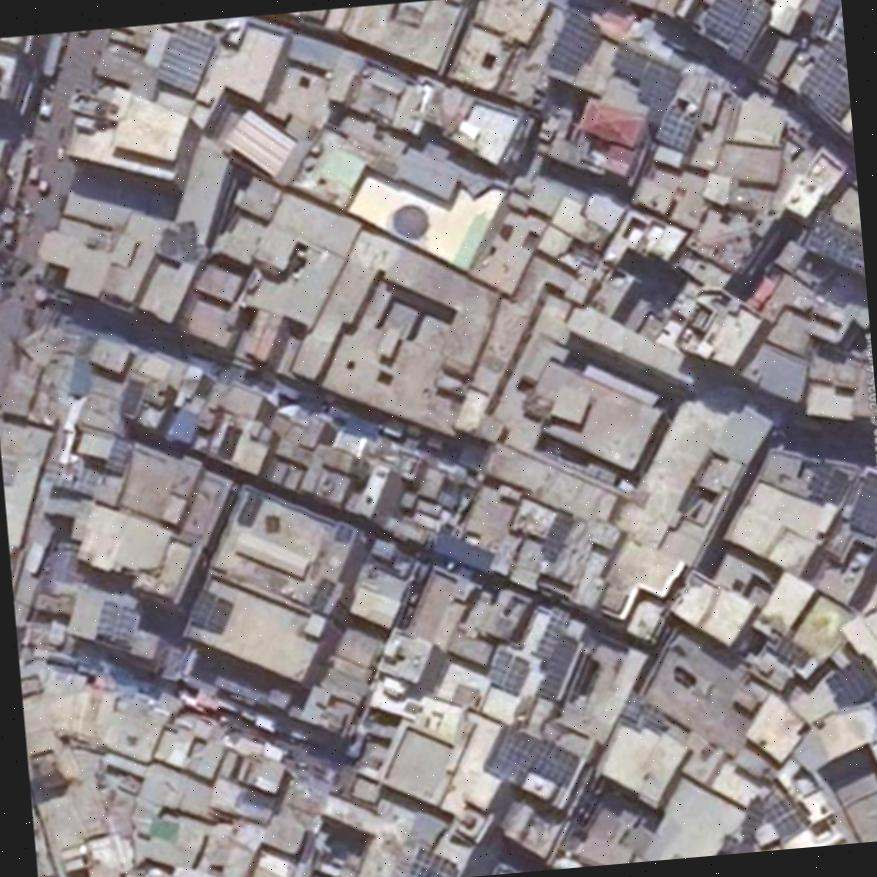Solarpanel: (595, 42, 682, 126), (795, 17, 848, 123), (496, 725, 579, 784), (153, 22, 214, 92), (701, 0, 772, 56), (547, 11, 599, 73), (536, 633, 578, 700), (186, 588, 234, 634), (848, 470, 877, 540), (655, 105, 697, 147), (806, 459, 848, 501), (93, 602, 138, 641), (534, 609, 568, 660), (488, 651, 527, 692), (404, 848, 457, 877), (540, 510, 573, 556), (773, 809, 805, 837), (764, 793, 794, 820), (813, 0, 835, 22)
